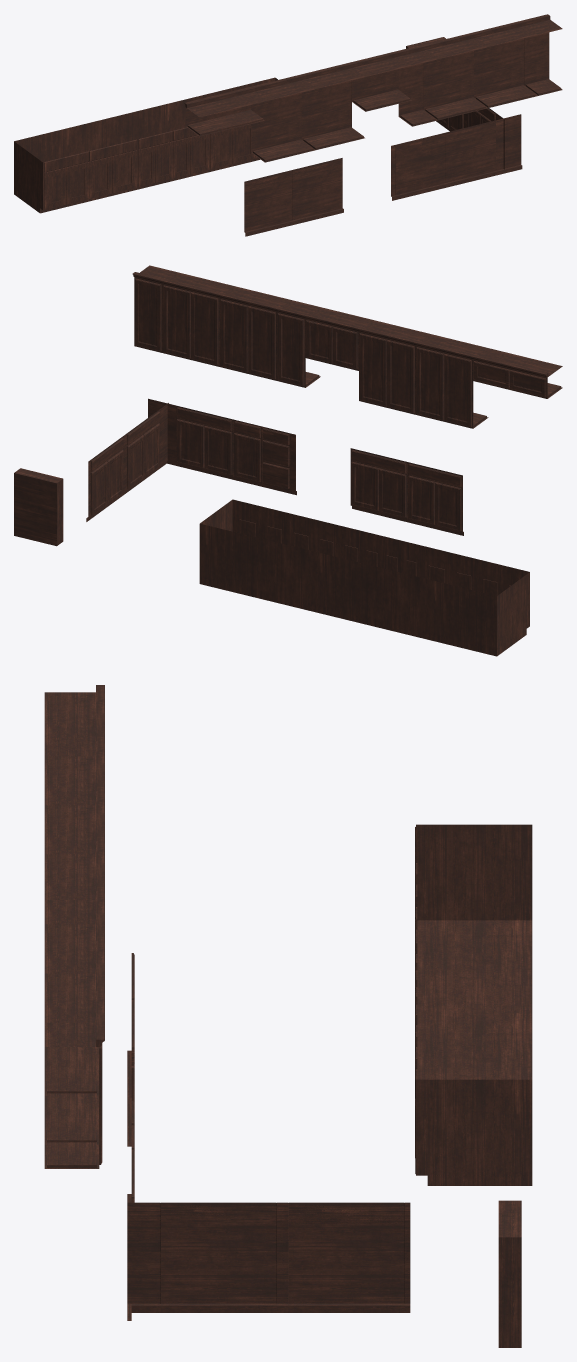
The model's file is 1860_kitchen_cabinets_espresso.gltf.
3 views of the same model, one above another, from view 1: azimuth 30°, elevation 25°; view 2: azimuth 150°, elevation 25°; view 3: azimuth 270°, elevation 25° (orthographic). The views are drawn at different scales.
Parts seen in each view (by area): view 1: Box5855; view 2: Box5855; view 3: Box5855.
Boxes of the visible parts, left/top/right/bottom form: Box5855: left=14, top=14, right=562, bottom=236; Box5855: left=14, top=265, right=562, bottom=656; Box5855: left=44, top=685, right=532, bottom=1347.
Size of the model in its own units: 8.5 by 2.93 by 4.2.
Materials: 1 (1 with a texture image).
